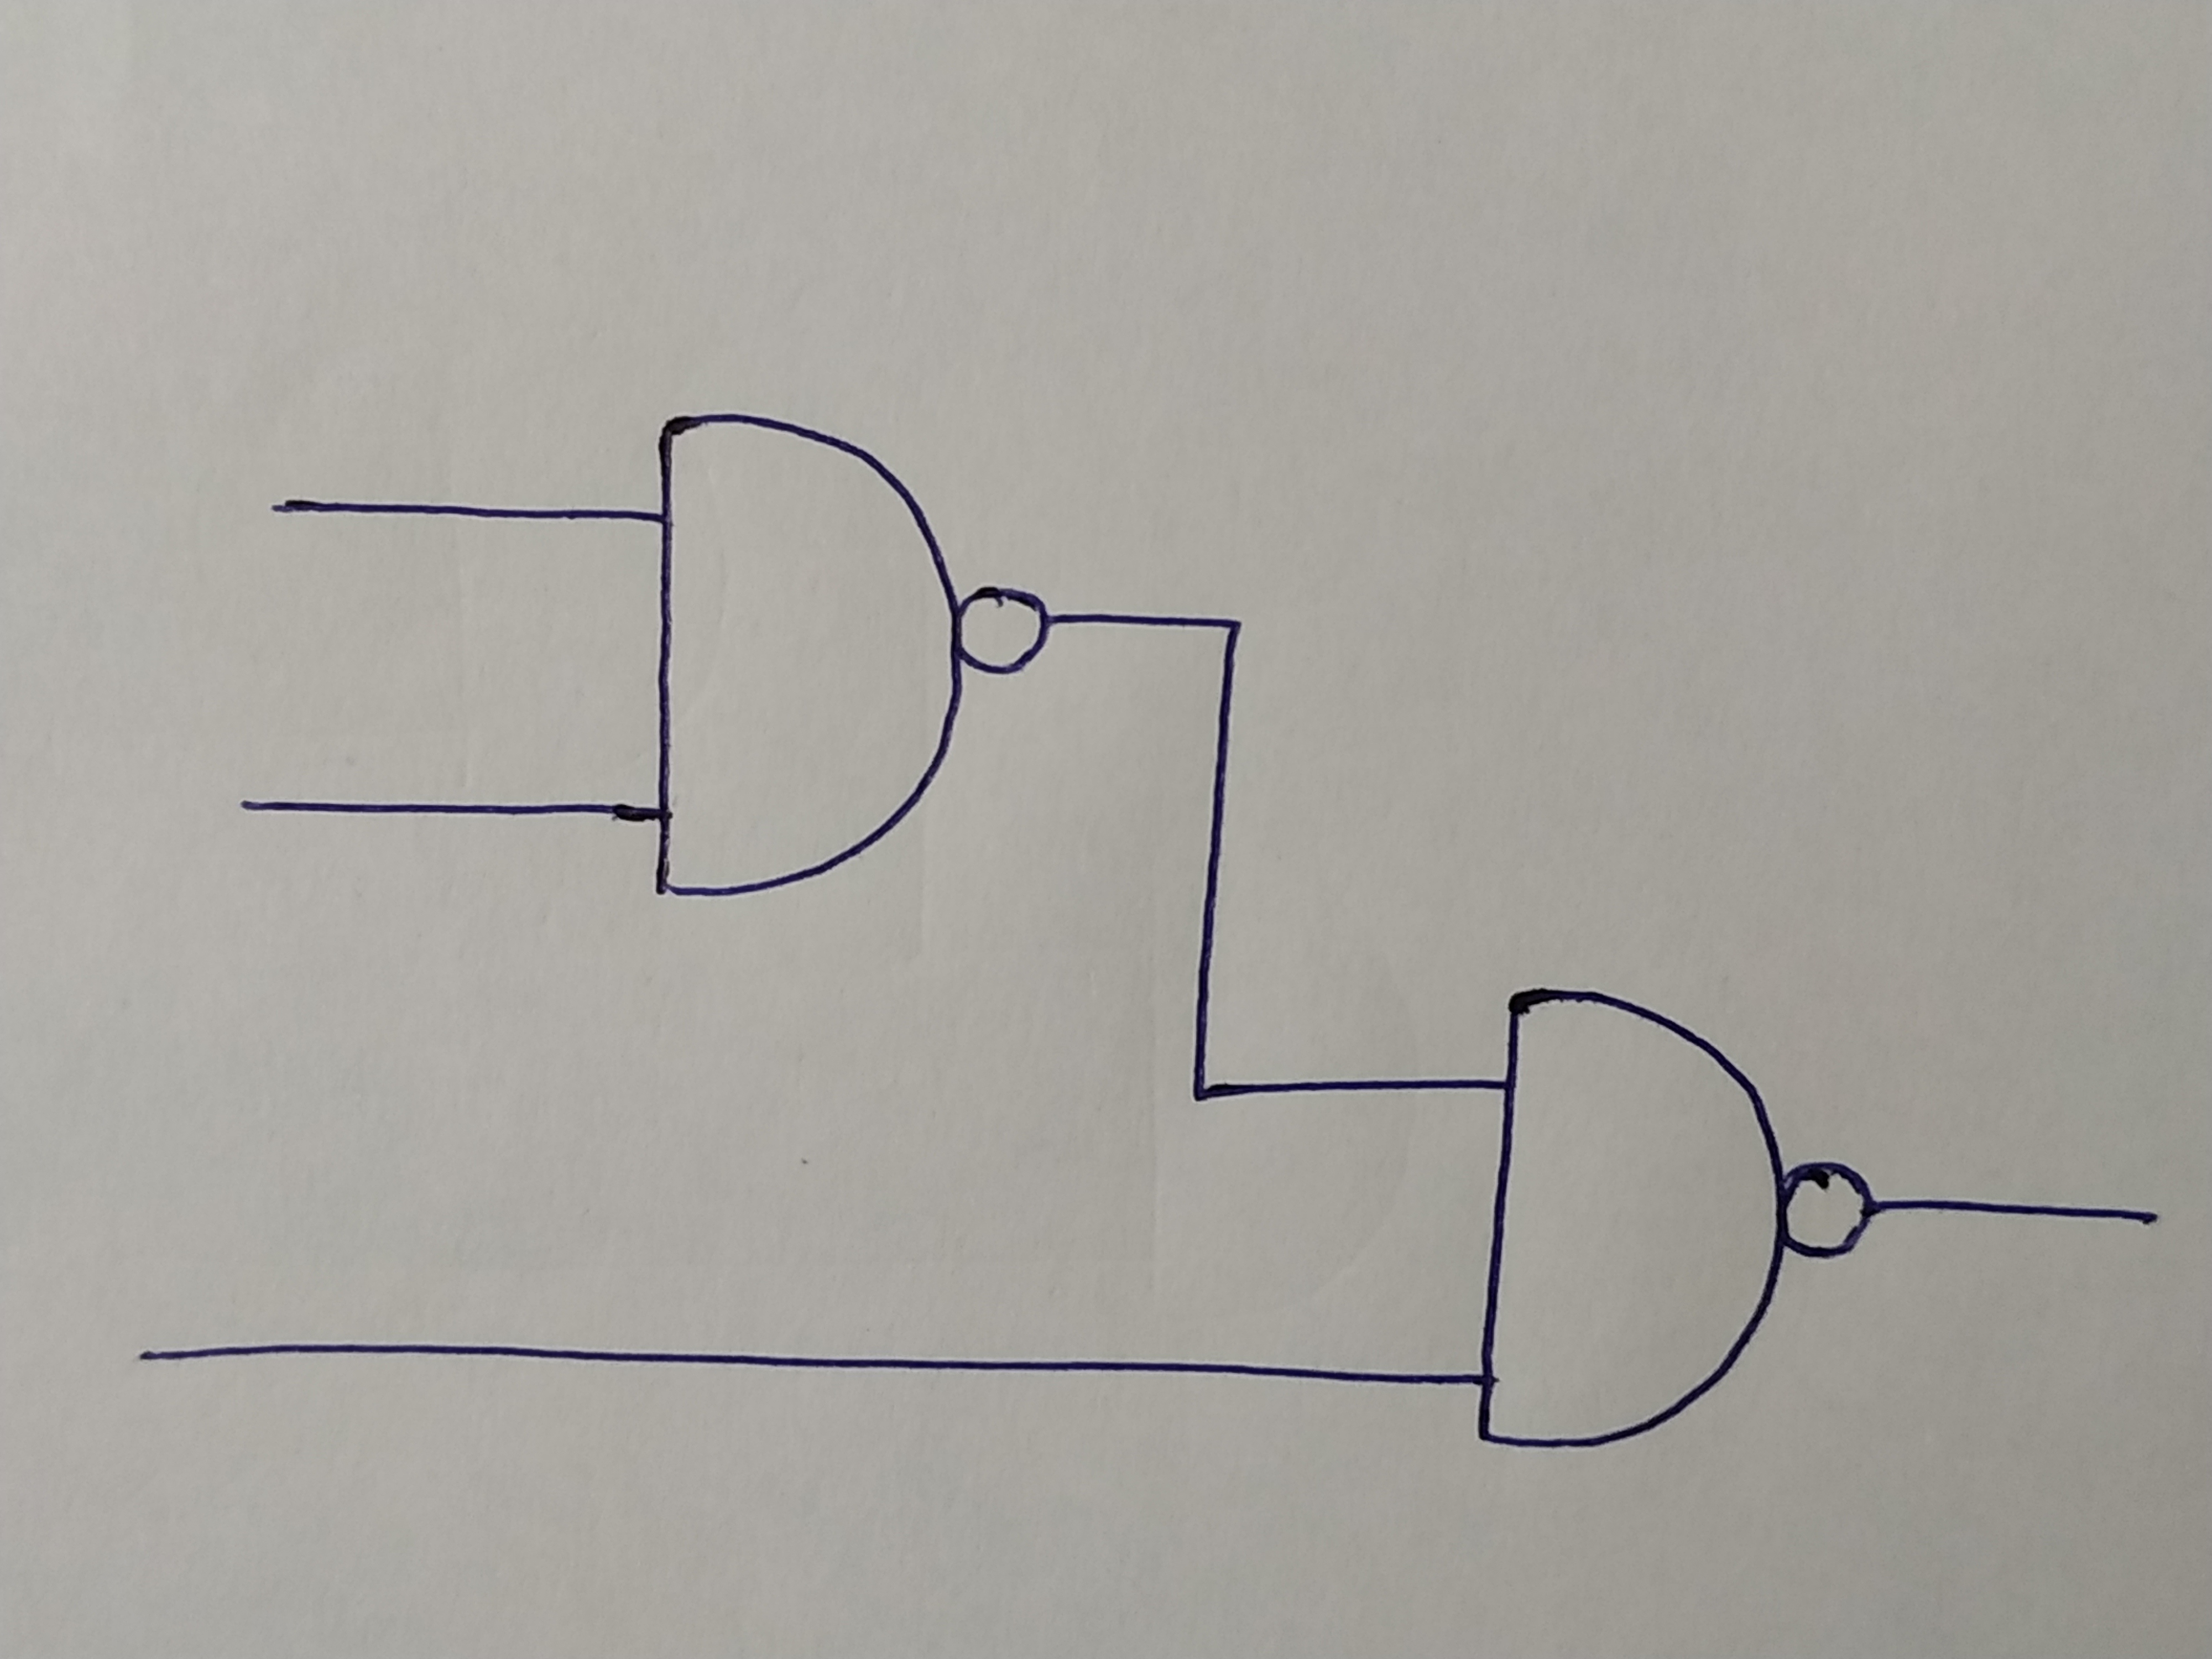and: (651, 413, 963, 904), (1480, 988, 1782, 1459)
not: (1785, 1159, 1876, 1260), (960, 584, 1049, 673)
